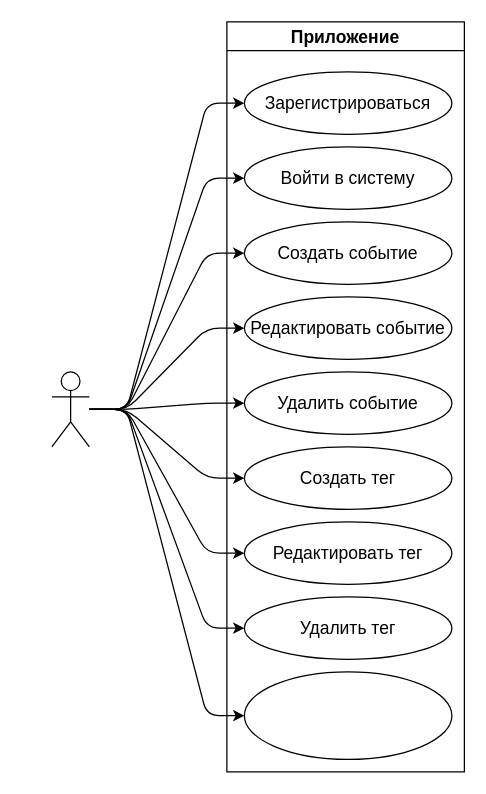
This 486x794 diagram has some shape labels left out. The centre of each missing label's shape, as x and y in pixels:
"Пользователь" belongs at (x=70, y=409).
"Произвести поиск событий с фильтрацией" belongs at (x=347, y=715).
